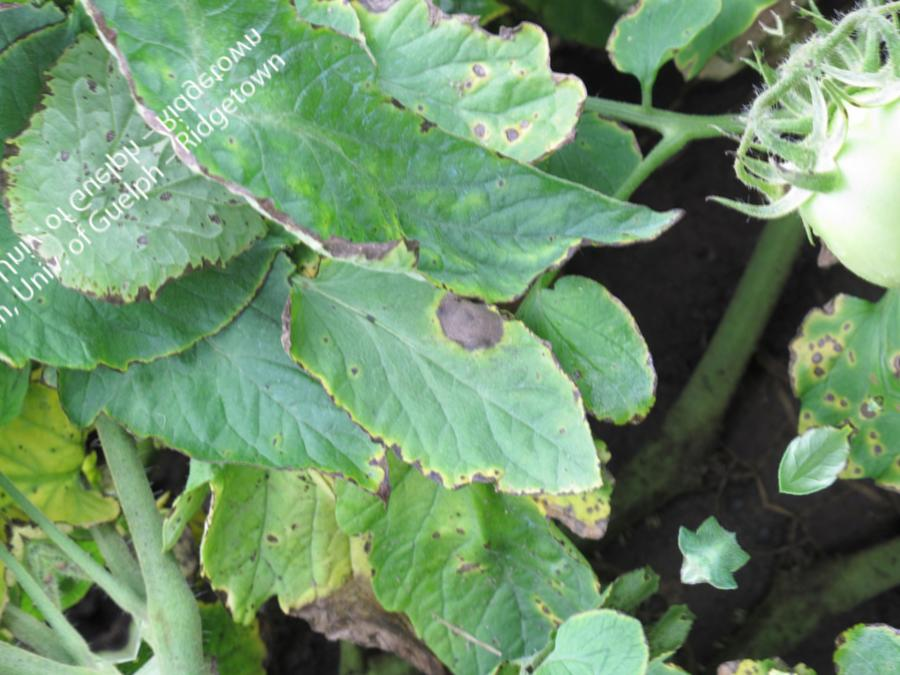Tomato Early blight leaf: (160, 0, 694, 437), (249, 174, 639, 571), (323, 397, 647, 675)
